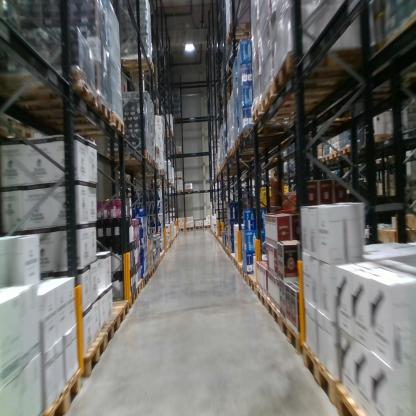pallet: (273, 48, 370, 106), (1, 65, 95, 104), (260, 81, 369, 113), (303, 342, 341, 413), (39, 368, 81, 412), (46, 104, 117, 129), (60, 113, 128, 139), (251, 102, 311, 131), (108, 47, 156, 77), (280, 308, 305, 360), (334, 381, 367, 414), (83, 335, 106, 380), (97, 313, 120, 351), (108, 297, 131, 330), (221, 25, 258, 45), (106, 150, 151, 164), (127, 168, 169, 182), (267, 295, 283, 330), (114, 156, 155, 169), (363, 133, 392, 149), (118, 164, 158, 174), (255, 283, 270, 309), (247, 272, 264, 294), (14, 123, 34, 140), (338, 143, 354, 162), (127, 288, 138, 309), (132, 279, 144, 295), (329, 148, 341, 162), (148, 145, 163, 155), (230, 250, 239, 264), (171, 186, 184, 195), (141, 274, 150, 287), (238, 262, 247, 275), (164, 129, 178, 137), (242, 268, 249, 284), (184, 186, 195, 195), (174, 175, 185, 184), (152, 260, 158, 275), (173, 150, 185, 157), (320, 155, 329, 164), (149, 265, 154, 280), (196, 224, 205, 232), (233, 257, 238, 269), (156, 255, 161, 266), (185, 226, 195, 231), (158, 253, 163, 262), (203, 224, 211, 229), (161, 250, 165, 258), (227, 249, 230, 259), (177, 228, 185, 231)
